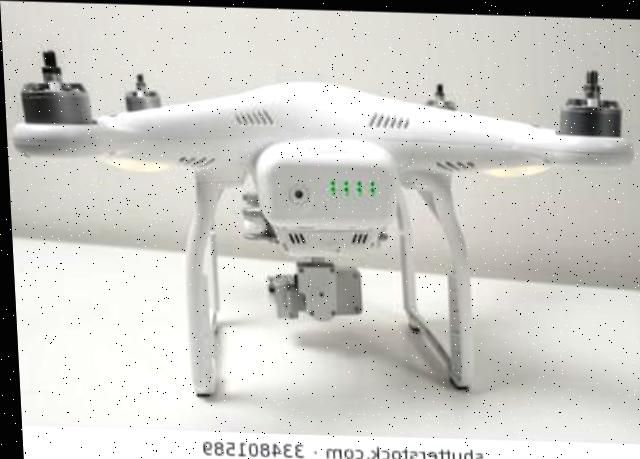drone: (1, 16, 640, 411)
